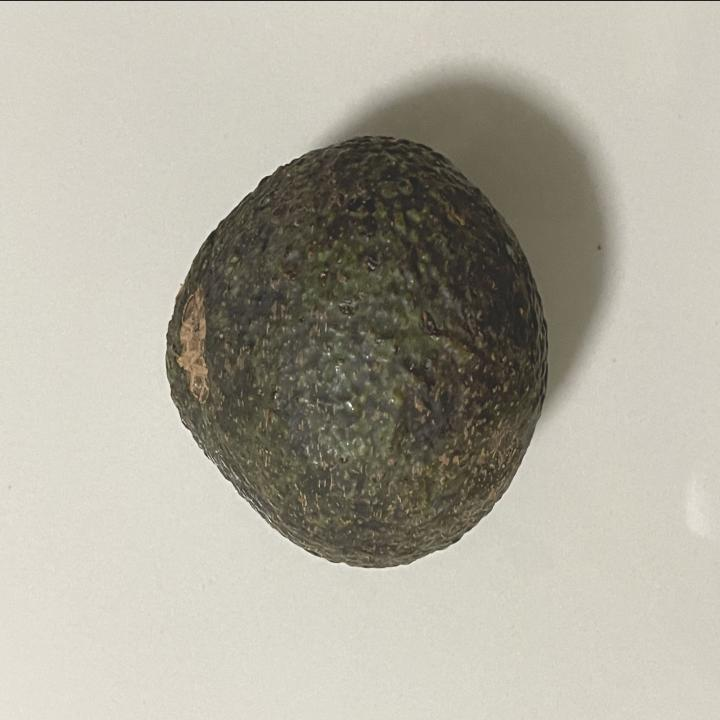Level1: (145, 110, 564, 592)
